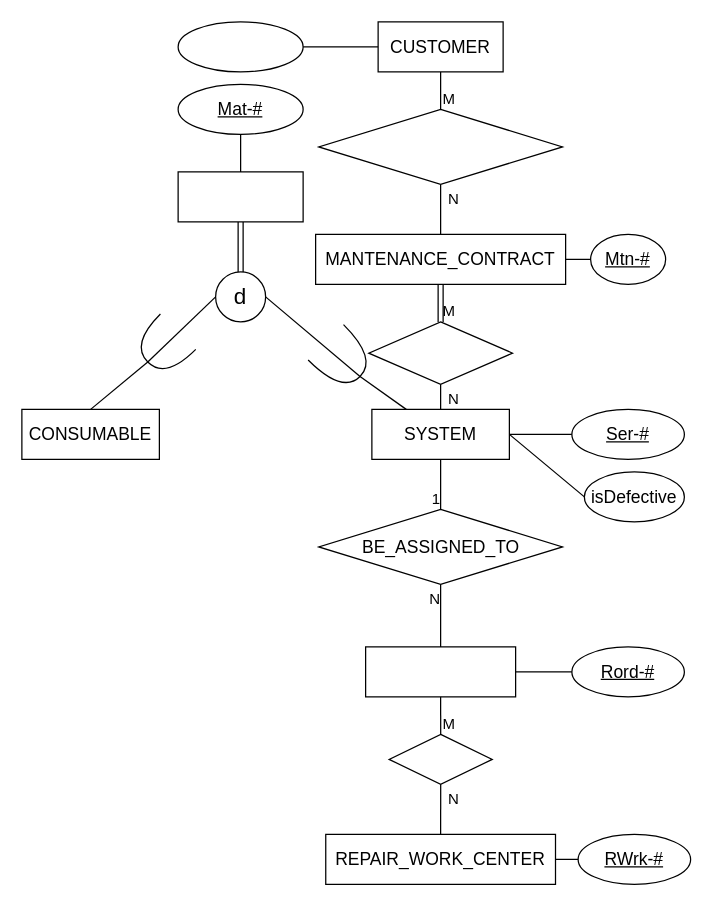
Image size: 713x906. Some labels were removed from this diagram. The box of each missing label's shape, as (x1, y1, x2, y2) in pixels:
ARTICLE: (177, 171, 303, 222)
BELONG_TO: (368, 321, 512, 384)
BUY_MTN_CONTRACT: (318, 108, 562, 184)
Cust-#: (177, 21, 303, 72)
REPAIR_ORDER: (364, 646, 516, 697)
USE: (388, 733, 492, 784)
